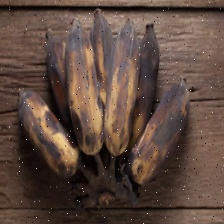banana: (35, 9, 224, 192)
